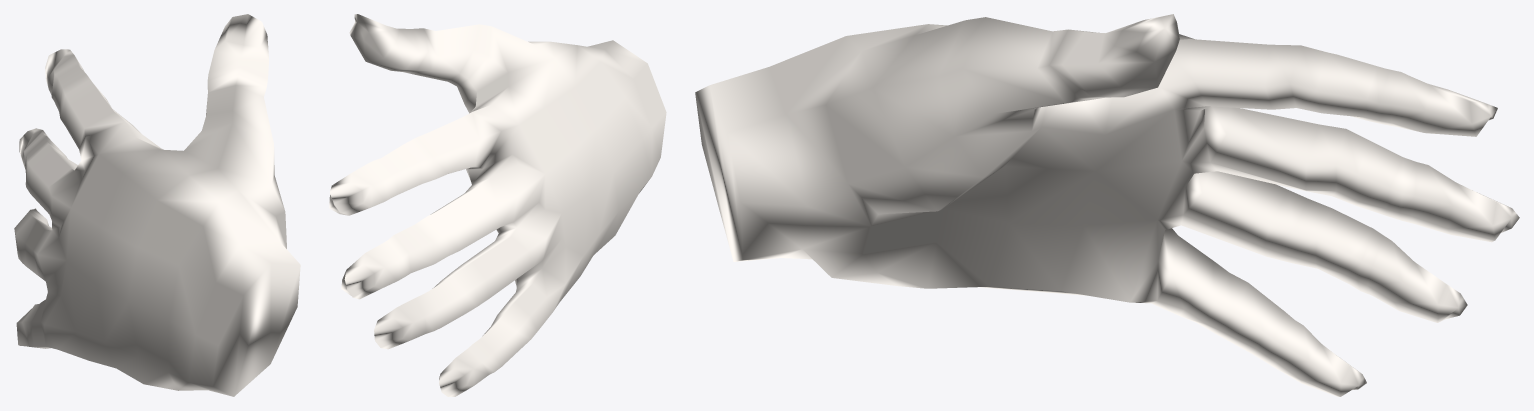
Rendered from Avatar_HandL.gltf.
The picture shows the model from 3 angles, left to right: view 1: azimuth 30°, elevation 25°; view 2: azimuth 150°, elevation 25°; view 3: azimuth 270°, elevation 25°; orthographic projection. The views are drawn at different scales.
Visible parts, largest first — view 1: Avatar_HandL; view 2: Avatar_HandL; view 3: Avatar_HandL.
Boxes of the visible parts, left/top/right/bottom form: Avatar_HandL: left=14, top=14, right=300, bottom=396; Avatar_HandL: left=329, top=14, right=666, bottom=396; Avatar_HandL: left=695, top=14, right=1519, bottom=396.
Bounding box in the file's own units: 0.4285 × 0.5995 × 0.903.
Materials: 1 (1 with a texture image).
